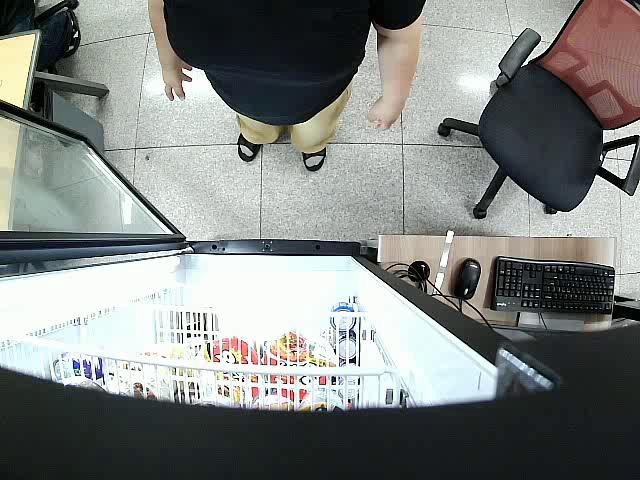00_hand: (159, 49, 193, 102), (366, 97, 404, 133)
